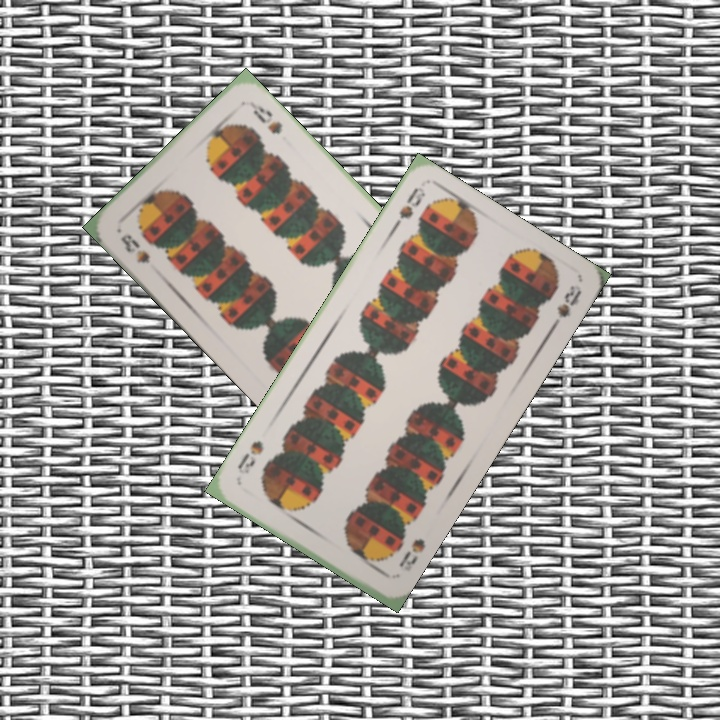S8: (386, 182, 428, 236), (116, 230, 153, 266), (395, 534, 428, 574)
